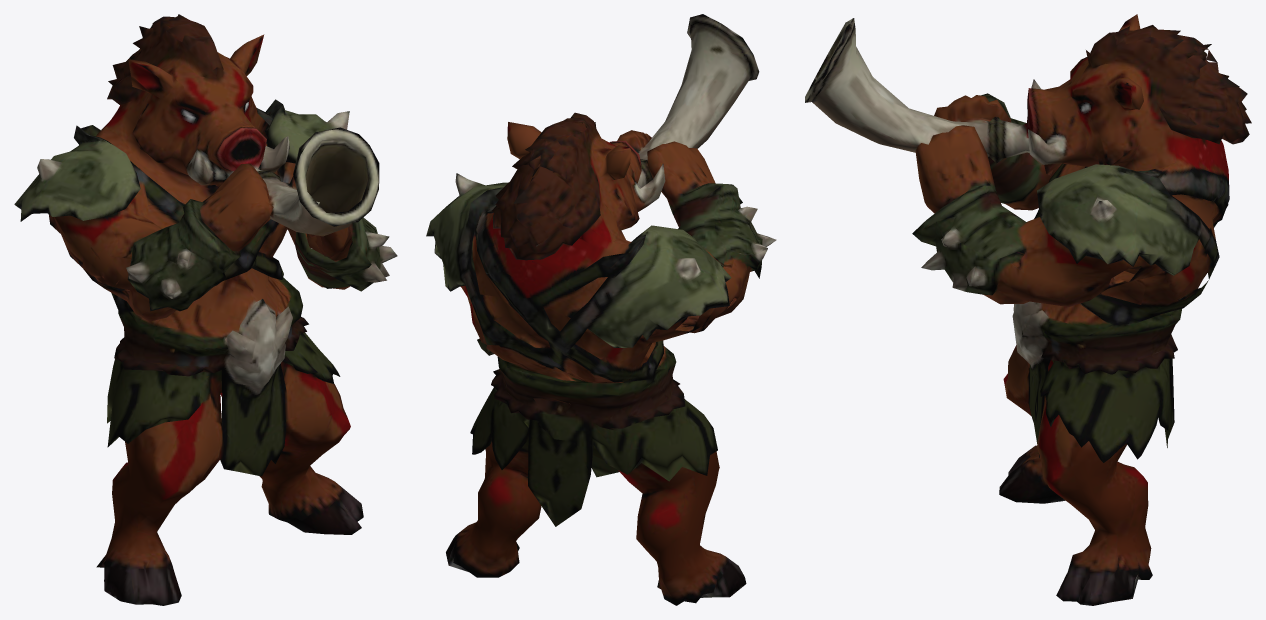
File: musician.glb
The picture shows the model from 3 angles, left to right: view 1: azimuth 30°, elevation 25°; view 2: azimuth 150°, elevation 25°; view 3: azimuth 270°, elevation 25°; orthographic projection. The views are drawn at different scales.
Visible parts, largest first — view 1: world; view 2: world; view 3: world.
Boxes of the visible parts, x1=… form: world: x1=14, y1=14, x2=397, y2=605; world: x1=426, y1=14, x2=776, y2=605; world: x1=805, y1=14, x2=1251, y2=605.
Size of the model in its own units: 0.6693 by 0.9976 by 0.7869.
Materials: 1 (1 with a texture image).
